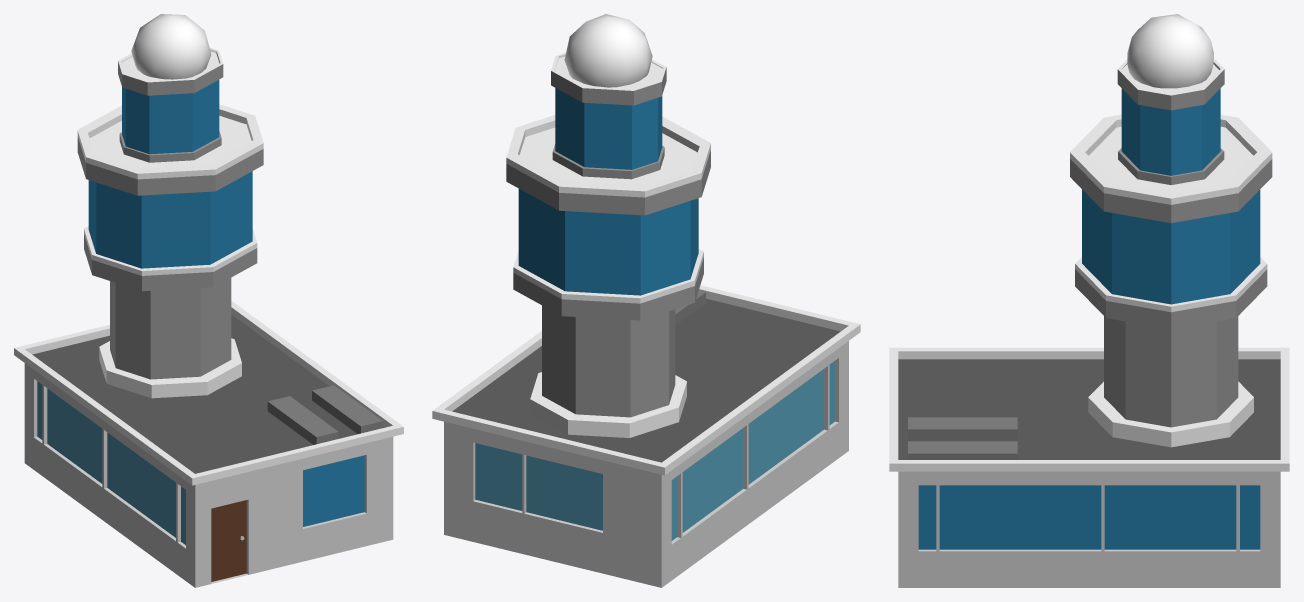
The model's file is Airport_Tower.fbx.
The picture shows the model from 3 angles, left to right: view 1: azimuth 30°, elevation 25°; view 2: azimuth 150°, elevation 25°; view 3: azimuth 270°, elevation 25°; orthographic projection. The views are drawn at different scales.
Visible parts, largest first — view 1: Airport_Tower; view 2: Airport_Tower; view 3: Airport_Tower.
Boxes of the visible parts, <box> form: Airport_Tower: <box>14,14,403,587</box>; Airport_Tower: <box>432,14,860,587</box>; Airport_Tower: <box>889,14,1289,587</box>.
Size of the model in its own units: 622 by 1288 by 907.
